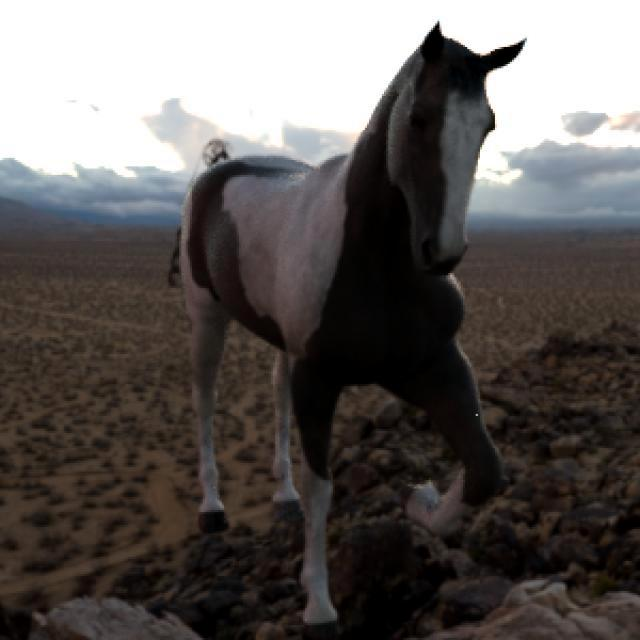horse: (181, 25, 523, 639)
